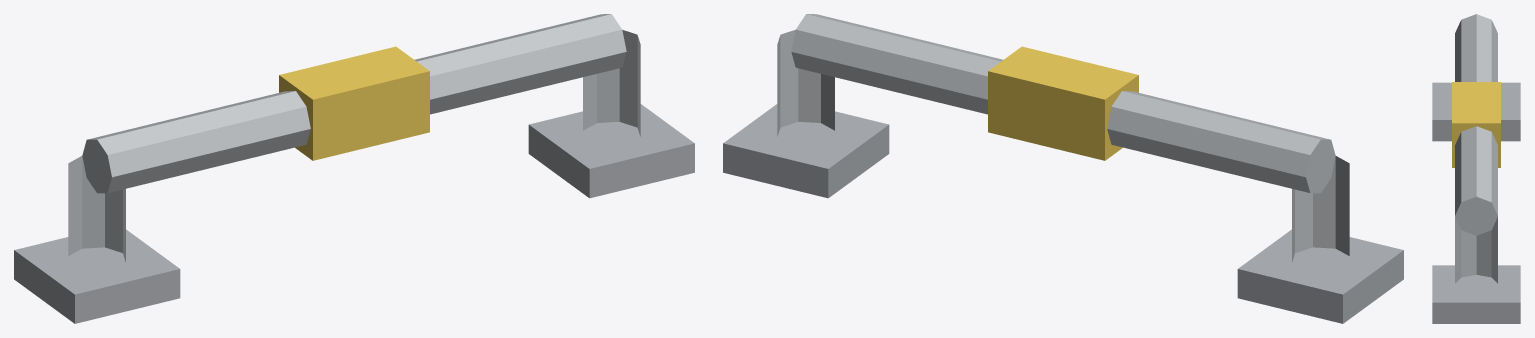
File: prop_handhold.glb
3 renders of one model, left to right at view 1: azimuth 30°, elevation 25°; view 2: azimuth 150°, elevation 25°; view 3: azimuth 270°, elevation 25°, orthographic. The views are drawn at different scales.
Parts seen in each view (by area): view 1: prop_handhold; view 2: prop_handhold; view 3: prop_handhold.
Boxes of the visible parts, x1,y1,x2,y2 form: prop_handhold: [14, 14, 694, 323]; prop_handhold: [723, 14, 1403, 323]; prop_handhold: [1432, 14, 1520, 323].
Size of the model in its own units: 0.53 by 0.125 by 0.09.
